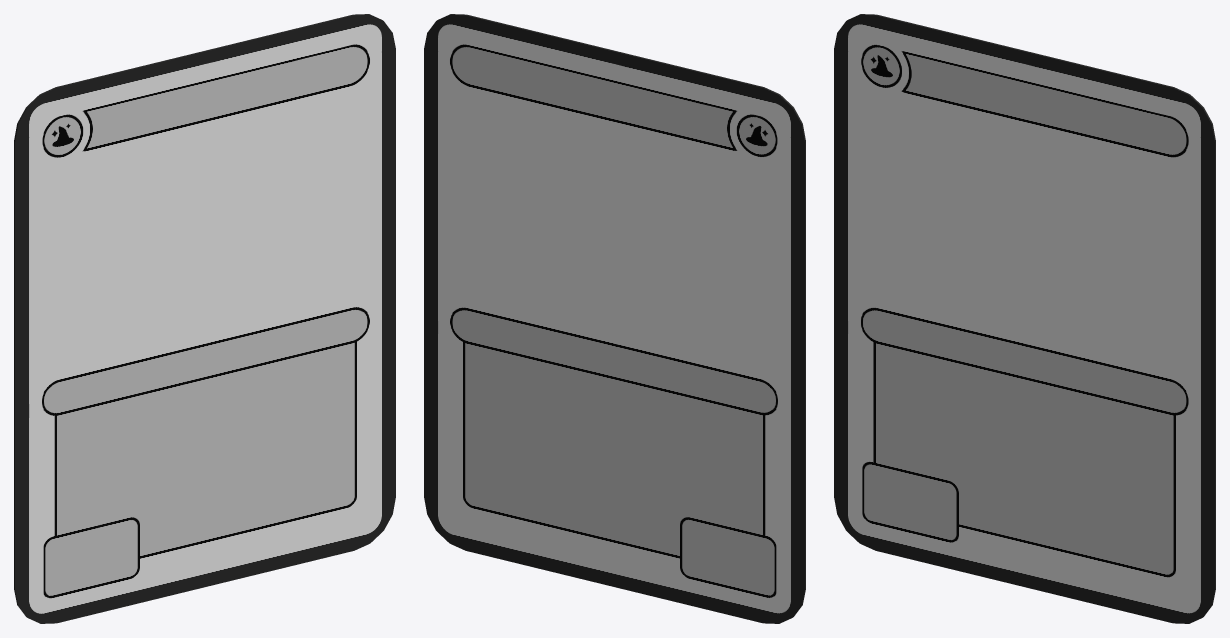
The model's file is card_empty.glb.
3 renders of one model, left to right at view 1: azimuth 30°, elevation 25°; view 2: azimuth 150°, elevation 25°; view 3: azimuth 330°, elevation 25°, orthographic.
Visible parts, largest first — view 1: card_set; view 2: card_set; view 3: card_set.
Part boxes in pixels (left/top/right/bottom): card_set: left=14, top=14, right=395, bottom=623; card_set: left=424, top=14, right=805, bottom=623; card_set: left=834, top=14, right=1215, bottom=623.
Size of the model in its own units: 0.4578 by 0.615 by 0.00237.
1 material, 1 textured.
